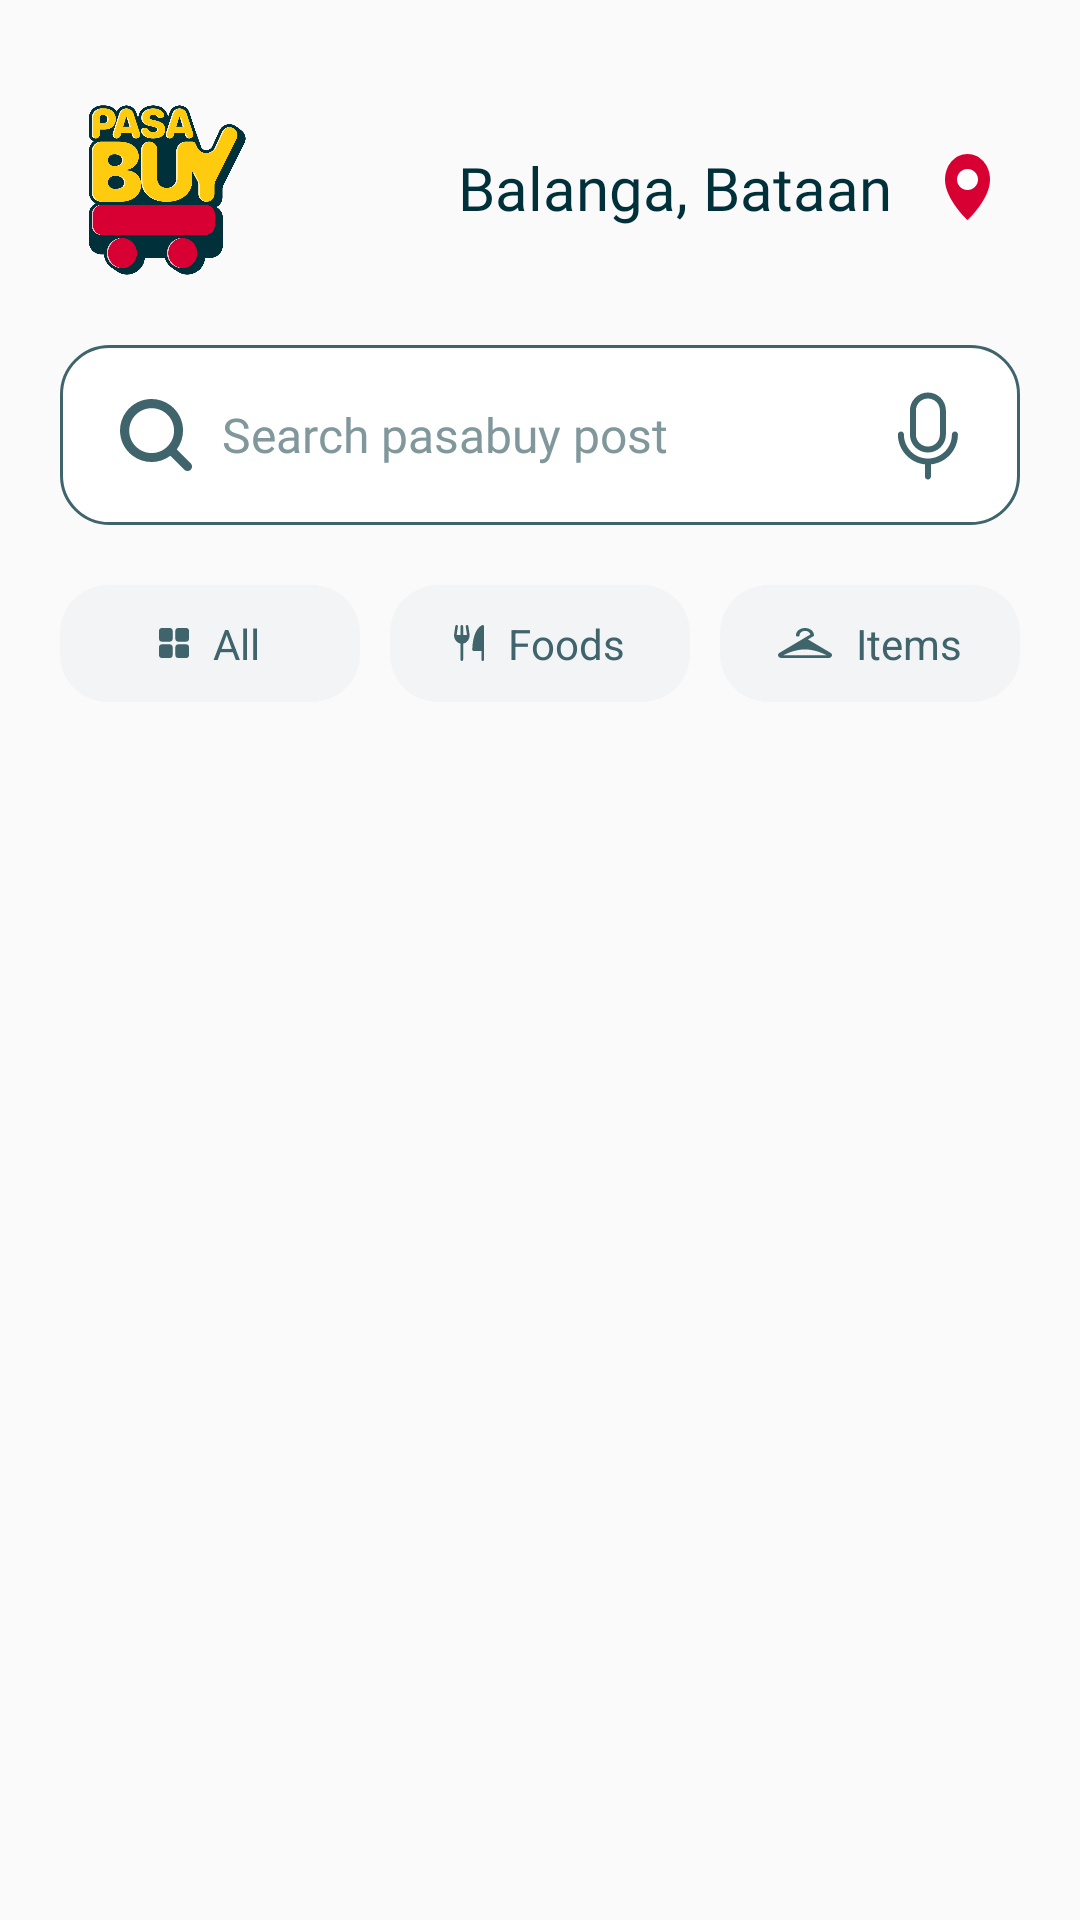

Point at icon controls on the screen. Image size 1080*1920, points as [x,y].
location: [967,187]
mic: [928,436]
